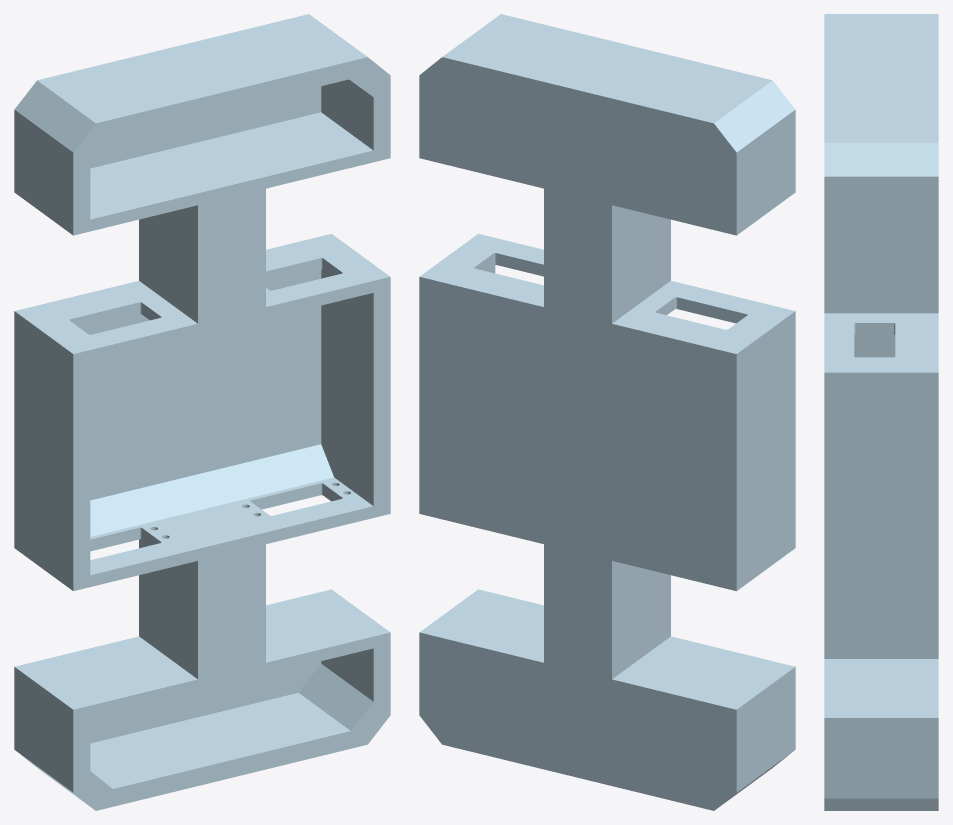
3 renders of one model, left to right at view 1: azimuth 30°, elevation 25°; view 2: azimuth 150°, elevation 25°; view 3: azimuth 270°, elevation 25°, orthographic. The views are drawn at different scales.
Visible parts, largest first — view 1: mesh72, mesh3, mesh55, mesh61, mesh77, mesh83, mesh5, mesh6, mesh119, mesh66, mesh74, mesh81 (+14 smaller); view 2: mesh62, mesh55, mesh61, mesh66, mesh60, mesh69, mesh59, mesh67, mesh64, mesh57, mesh49, mesh56 (+1 smaller); view 3: mesh50, mesh55, mesh53, mesh63, mesh69, mesh51, mesh68, mesh49, mesh54, mesh71, mesh4, mesh17.
Boxes of the visible parts, x1,y1,x2,y2 form: mesh72: (73, 57, 390, 810); mesh3: (81, 270, 321, 500); mesh55: (37, 14, 367, 123); mesh61: (14, 311, 73, 590); mesh77: (90, 112, 372, 219); mesh83: (90, 692, 350, 788); mesh5: (321, 270, 373, 505); mesh6: (90, 444, 333, 536); mesh119: (90, 477, 373, 574); mesh66: (15, 636, 197, 709); mesh74: (90, 86, 321, 168); mesh81: (90, 661, 321, 743); mesh62: (419, 57, 736, 810); mesh55: (442, 14, 772, 123); mesh61: (736, 311, 795, 590); mesh66: (612, 636, 794, 709); mesh60: (612, 281, 794, 353); mesh69: (420, 589, 543, 662); mesh59: (612, 205, 670, 323); mesh67: (612, 561, 670, 678); mesh64: (736, 667, 795, 792); mesh57: (736, 109, 795, 235); mesh49: (420, 234, 543, 306); mesh56: (714, 80, 795, 152); mesh50: (824, 372, 938, 602); mesh55: (824, 14, 938, 142); mesh53: (824, 176, 938, 257); mesh63: (824, 718, 938, 798); mesh69: (824, 659, 938, 717); mesh51: (824, 257, 938, 313); mesh68: (824, 603, 938, 658); mesh49: (824, 313, 938, 372); mesh54: (824, 143, 938, 176); mesh71: (824, 798, 938, 810); mesh4: (854, 334, 895, 357); mesh17: (856, 323, 893, 334).
Bounding box in the file's own units: 0.1778 × 0.3683 × 0.0571.
